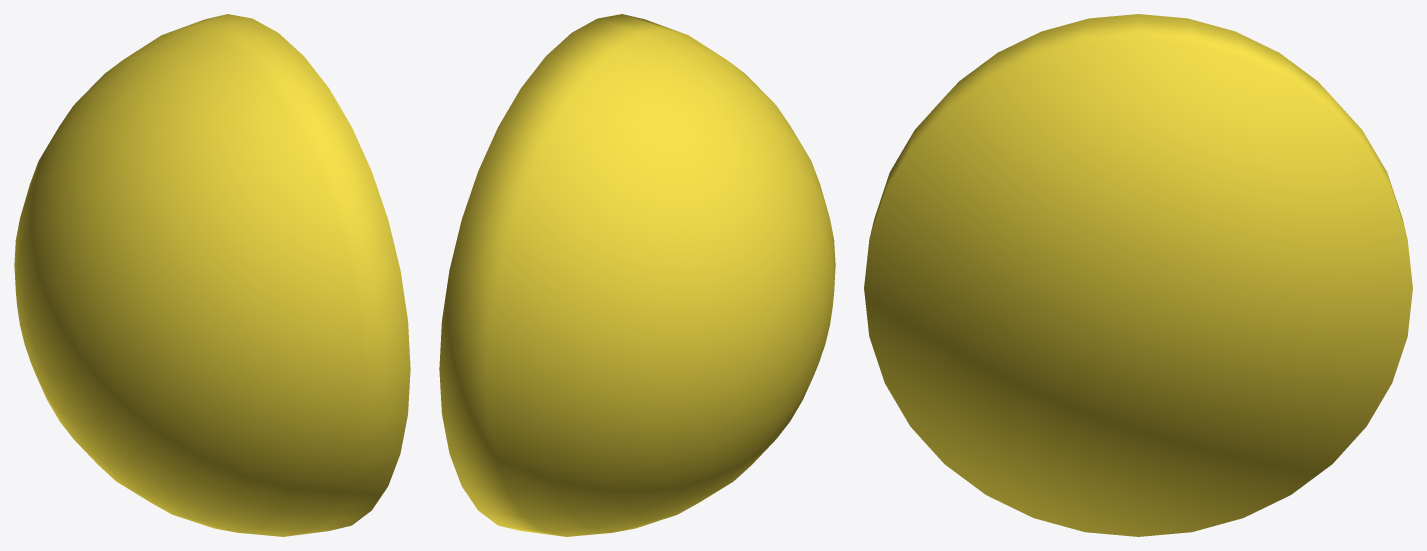
File: sphere-half.fbx
3 renders of one model, left to right at view 1: azimuth 30°, elevation 25°; view 2: azimuth 150°, elevation 25°; view 3: azimuth 270°, elevation 25°, orthographic. The views are drawn at different scales.
Visible parts, largest first — view 1: Sphere; view 2: Sphere; view 3: Sphere.
Part boxes in pixels (left/top/right/bottom): Sphere: left=14, top=14, right=410, bottom=536; Sphere: left=439, top=14, right=835, bottom=536; Sphere: left=864, top=14, right=1412, bottom=536.
Bounding box in the file's own units: 100 × 200 × 200.
